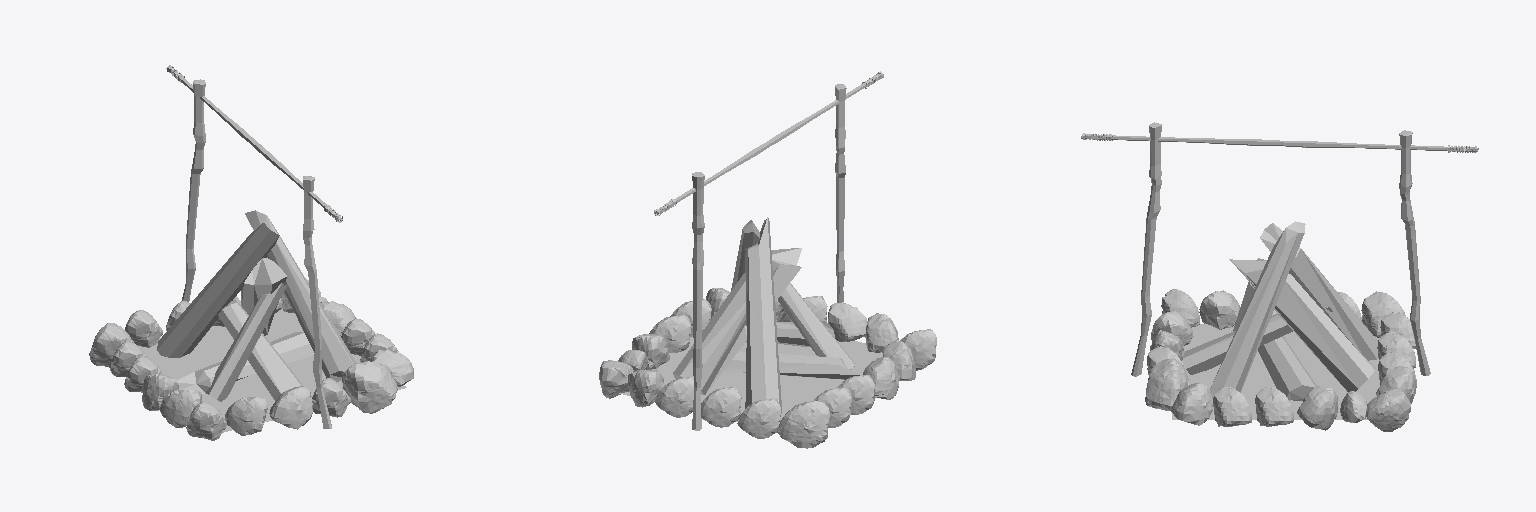
The model's file is firepitlowpoly.obj.
3 views of the same model, side by side, from view 1: azimuth 30°, elevation 25°; view 2: azimuth 150°, elevation 25°; view 3: azimuth 270°, elevation 25° (orthographic).
Visible parts, largest first — view 1: firepit:Mesh; view 2: firepit:Mesh; view 3: firepit:Mesh.
Boxes of the visible parts, <box> form: firepit:Mesh: <box>89,65,413,440</box>; firepit:Mesh: <box>599,71,936,448</box>; firepit:Mesh: <box>1081,122,1478,431</box>.
Bounding box in the file's own units: 3.6 × 3.66 × 5.22.